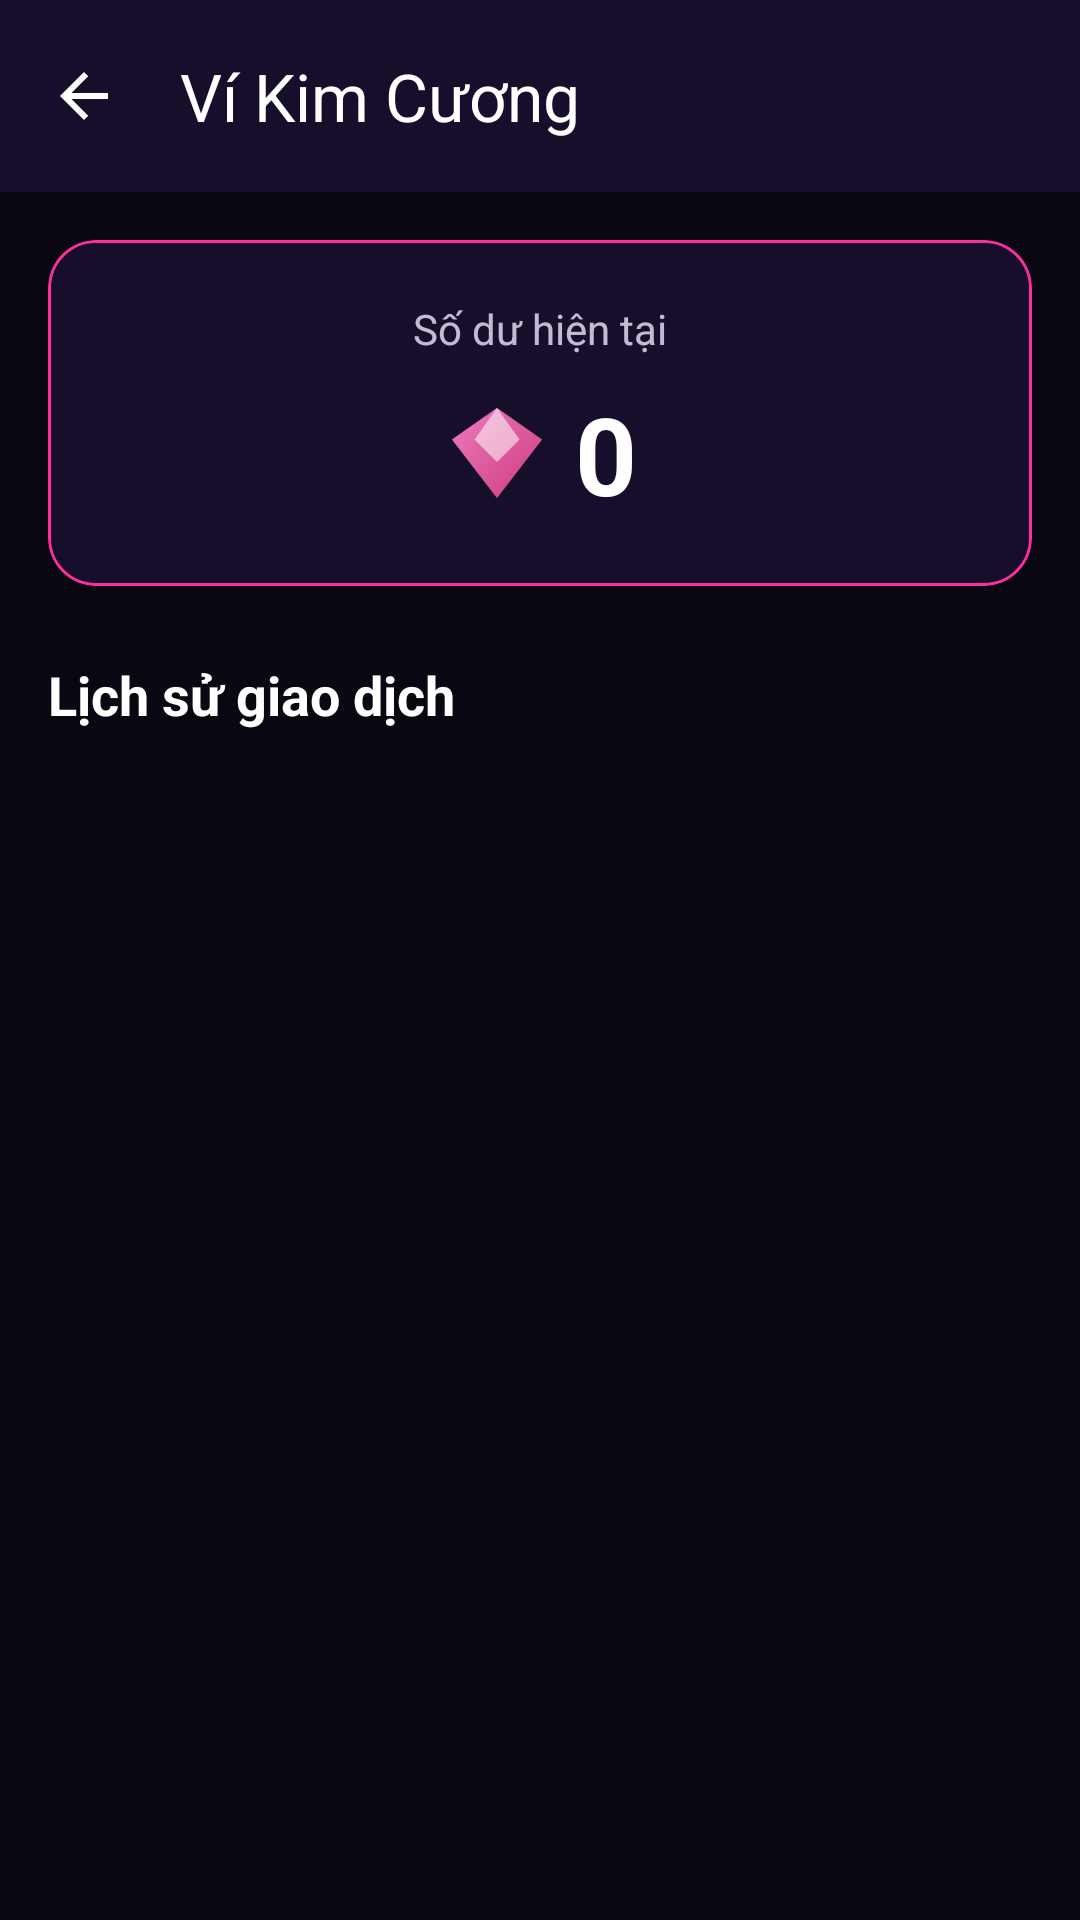

Named icons in this screenshot (1080 × 1920) and their centers, (x,y):
diamond: (497,453)
